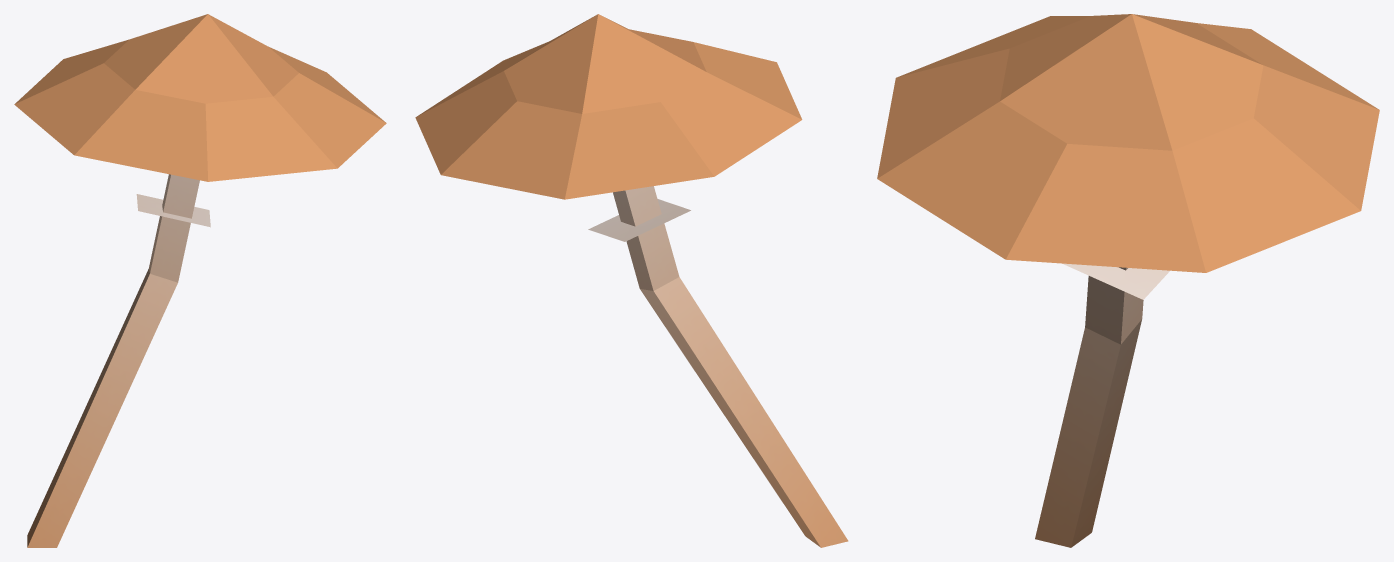
The model's file is mushroom3.fbx.
The picture shows the model from 3 angles, left to right: view 1: azimuth 30°, elevation 25°; view 2: azimuth 150°, elevation 25°; view 3: azimuth 270°, elevation 25°; orthographic projection. The views are drawn at different scales.
Parts seen in each view (by area): view 1: Mushroom_i_02; view 2: Mushroom_i_02; view 3: Mushroom_i_02.
Part boxes in pixels (x1,y1,x2,y2): Mushroom_i_02: [14, 14, 386, 547]; Mushroom_i_02: [415, 14, 848, 547]; Mushroom_i_02: [877, 14, 1379, 547].
Bounding box in the file's own units: 24.57 × 28.04 × 35.19.
1 material, 1 textured.
